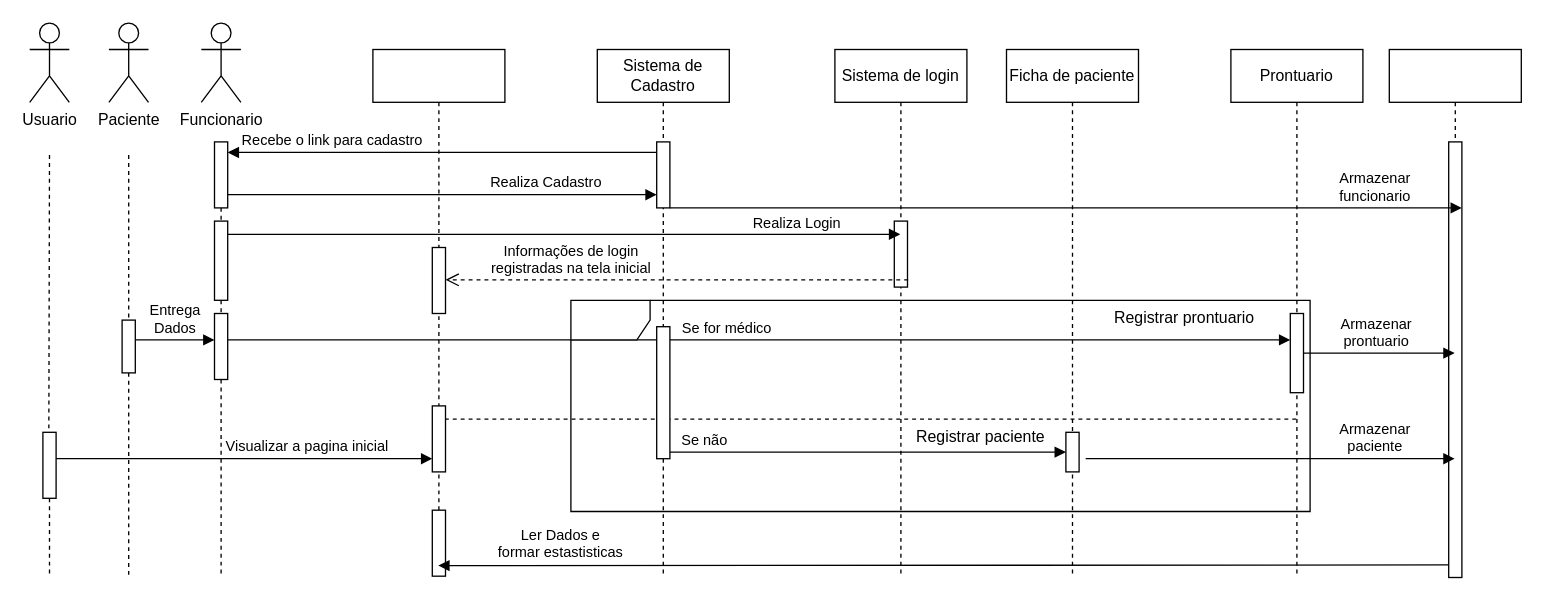
Some shapes in this 1544 by 602 pixel diagram are drawn without their labels. Here are the shapes that lost their labels. From the top down, the box of each, then its label:
(372, 48, 505, 578): Tela inicial
(1388, 48, 1521, 578): Banco de dados
(570, 299, 1310, 512): Alt
